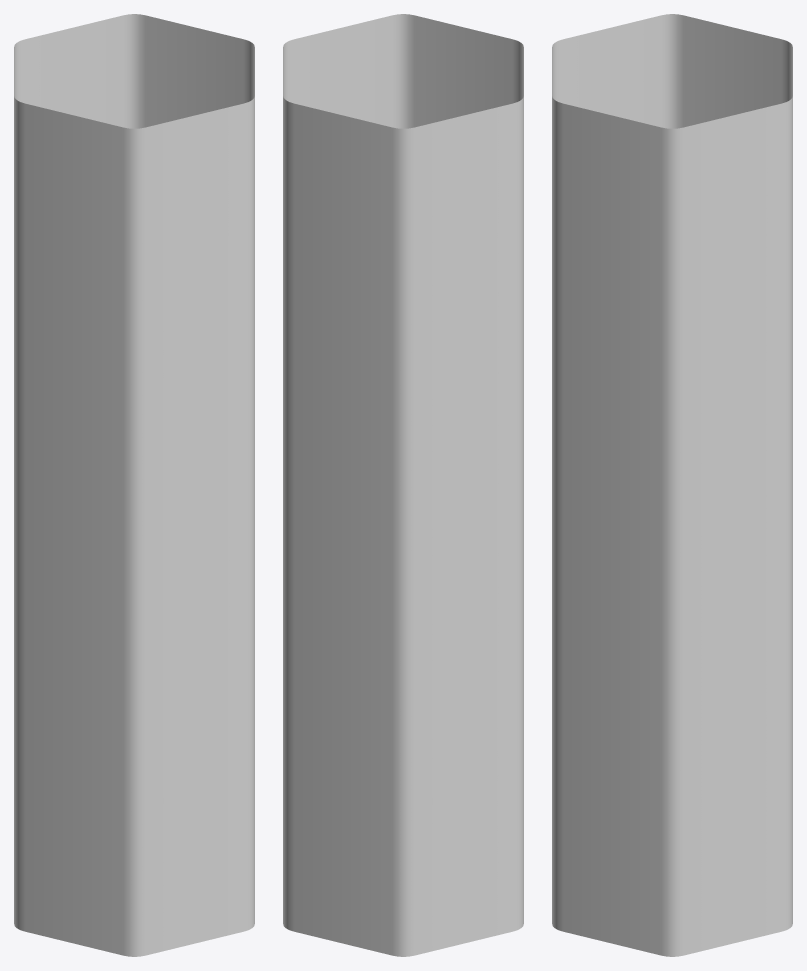
Rendered from Gradient_obj.fbx.
3 views of the same model, side by side, from view 1: azimuth 30°, elevation 25°; view 2: azimuth 150°, elevation 25°; view 3: azimuth 270°, elevation 25° (orthographic).
Visible parts, largest first — view 1: Gradient_obj; view 2: Gradient_obj; view 3: Gradient_obj.
Boxes of the visible parts, bbox=[...] form: Gradient_obj: bbox=[14, 14, 254, 956]; Gradient_obj: bbox=[283, 14, 523, 956]; Gradient_obj: bbox=[552, 14, 792, 956].
Bounding box in the file's own units: 90.89 × 306 × 80.6.
1 material, 1 textured.
